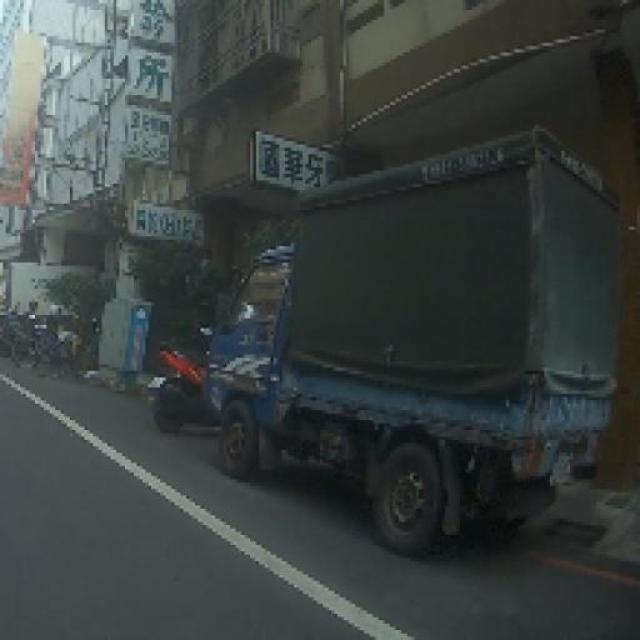illegalparking: (169, 132, 640, 550)
